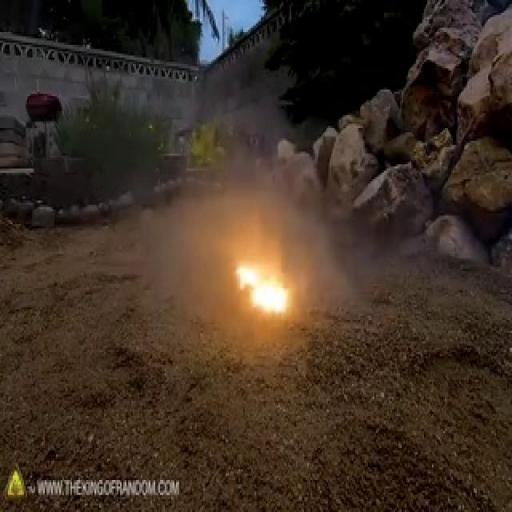smoke: (231, 205, 302, 316)
